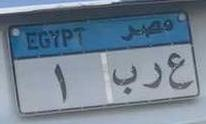1: (52, 62, 74, 103)
ain: (166, 49, 194, 94)
baa: (111, 62, 139, 97)
raa: (142, 60, 163, 92)
